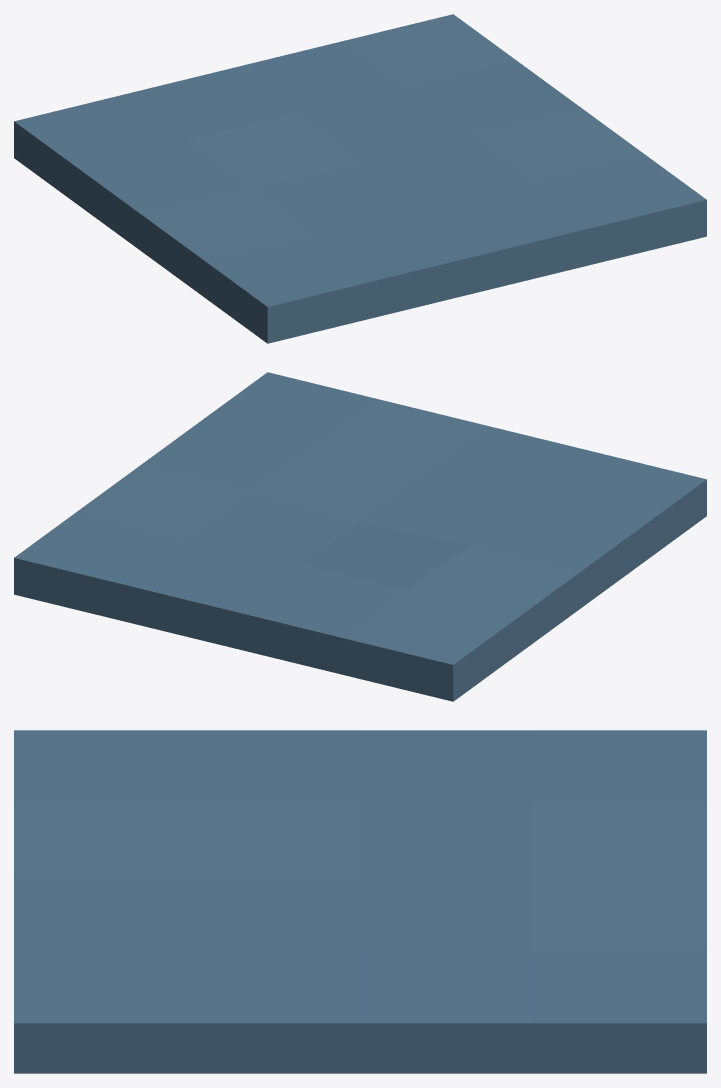
The model's file is terrain_water.glb.
3 renders of one model, top to bottom at view 1: azimuth 30°, elevation 25°; view 2: azimuth 150°, elevation 25°; view 3: azimuth 270°, elevation 25°, orthographic. The views are drawn at different scales.
Parts seen in each view (by area): view 1: terrain_water; view 2: terrain_water; view 3: terrain_water.
Boxes of the visible parts, x1,y1,x2,y2 form: terrain_water: [14, 14, 706, 343]; terrain_water: [14, 372, 706, 701]; terrain_water: [14, 730, 706, 1073].
Bounding box in the file's own units: 1 × 0.0842 × 1.
